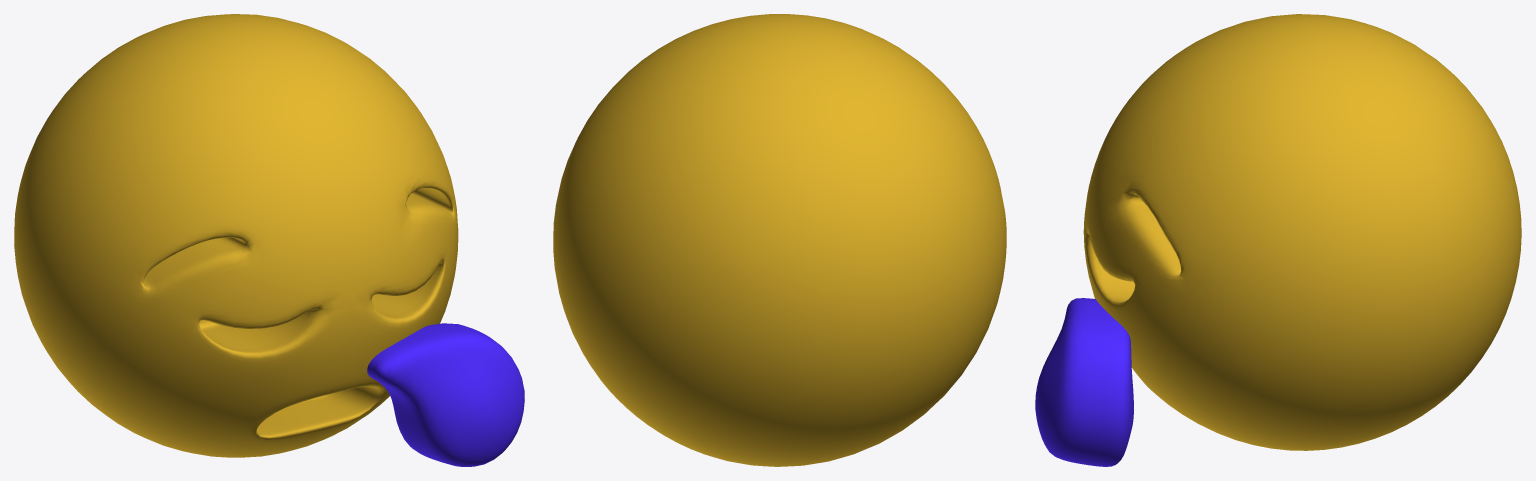
The model's file is sleepy.glb.
3 renders of one model, left to right at view 1: azimuth 30°, elevation 25°; view 2: azimuth 150°, elevation 25°; view 3: azimuth 270°, elevation 25°, orthographic. The views are drawn at different scales.
Visible parts, largest first — view 1: Group29019, Group56543; view 2: Group29019; view 3: Group29019, Group56543.
Part boxes in pixels (x1=…): Group29019: x1=14, y1=14, x2=458, y2=457; Group56543: x1=367, y1=323, x2=524, y2=466; Group29019: x1=553, y1=14, x2=1006, y2=466; Group29019: x1=1083, y1=14, x2=1521, y2=450; Group56543: x1=1035, y1=298, x2=1133, y2=466.
Size of the model in its own units: 0.5614 by 0.5613 by 0.6252.
